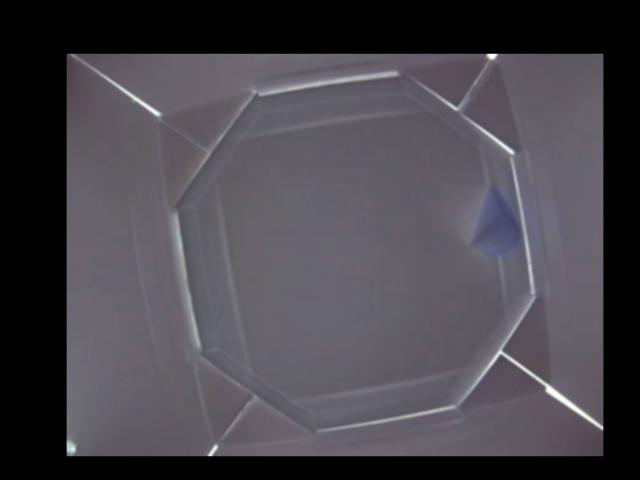Mooli: (470, 184, 523, 255)
